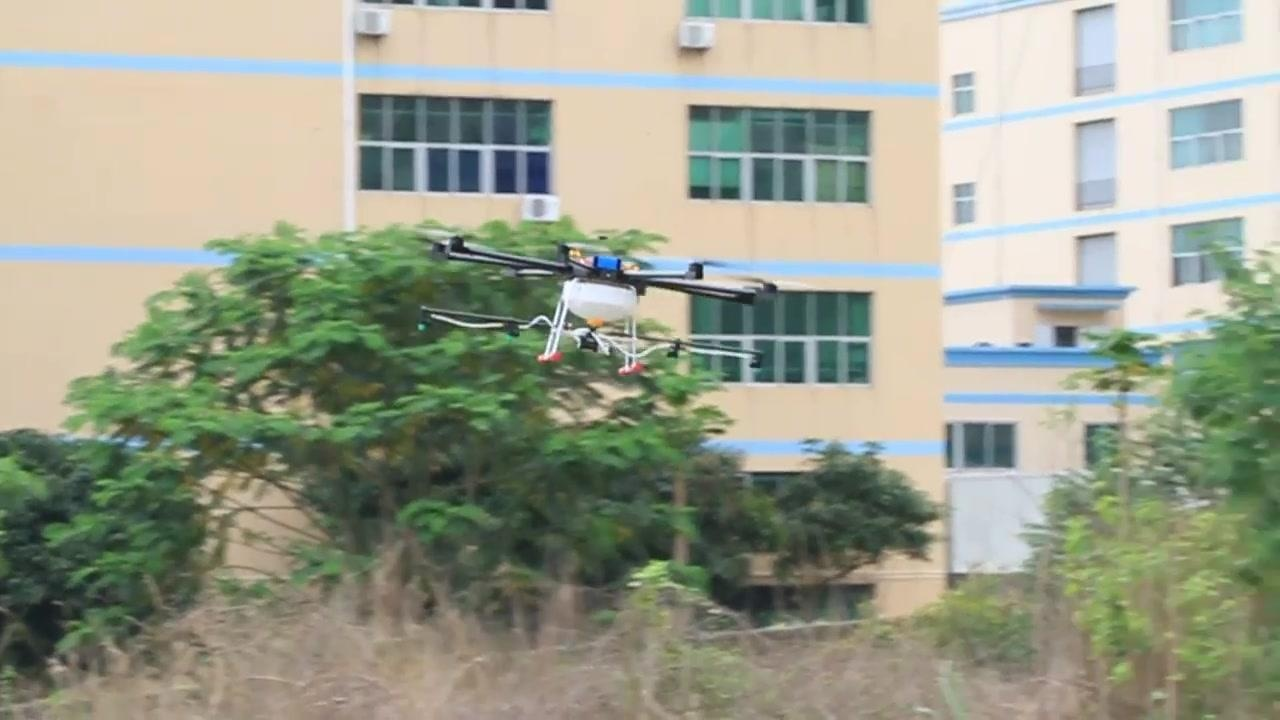UAV: (418, 237, 777, 376)
